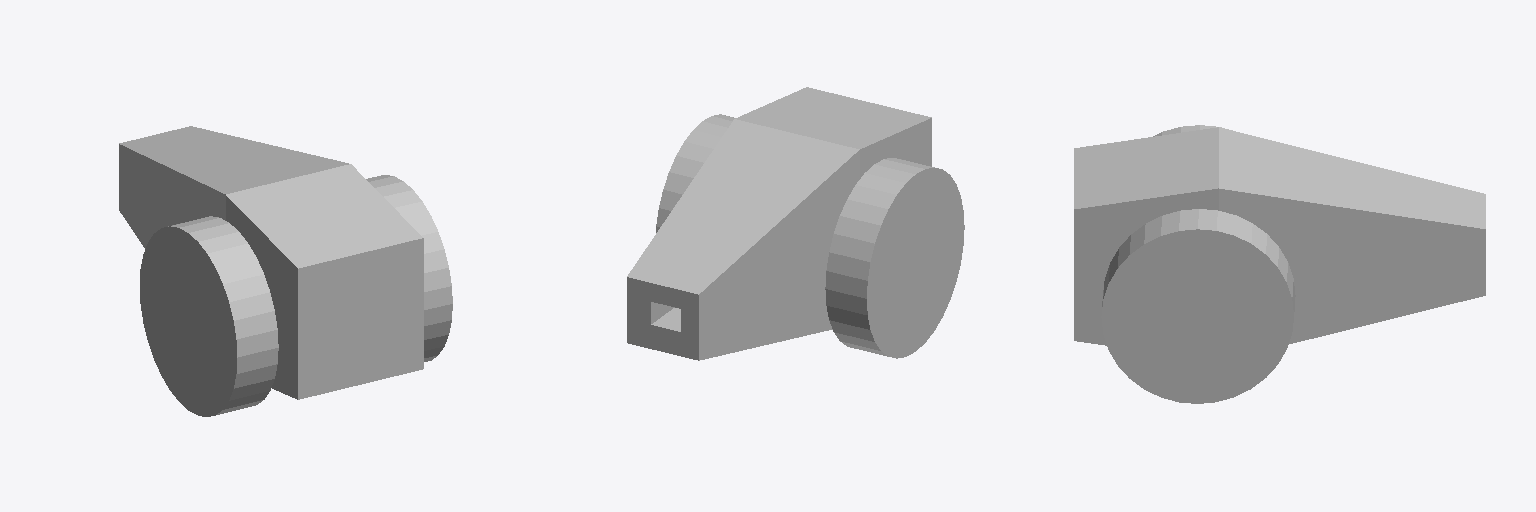
The model's file is Cannon.obj.
The picture shows the model from 3 angles: view 1: azimuth 30°, elevation 25°; view 2: azimuth 150°, elevation 25°; view 3: azimuth 270°, elevation 25°; orthographic projection.
Parts seen in each view (by area): view 1: Cube; view 2: Cube; view 3: Cube.
Part boxes in pixels (x1,y1,x2,y2): Cube: (119,126,452,416); Cube: (627,87,964,360); Cube: (1074,125,1485,403).
Size of the model in its own units: 3.43 by 3.01 by 5.7.